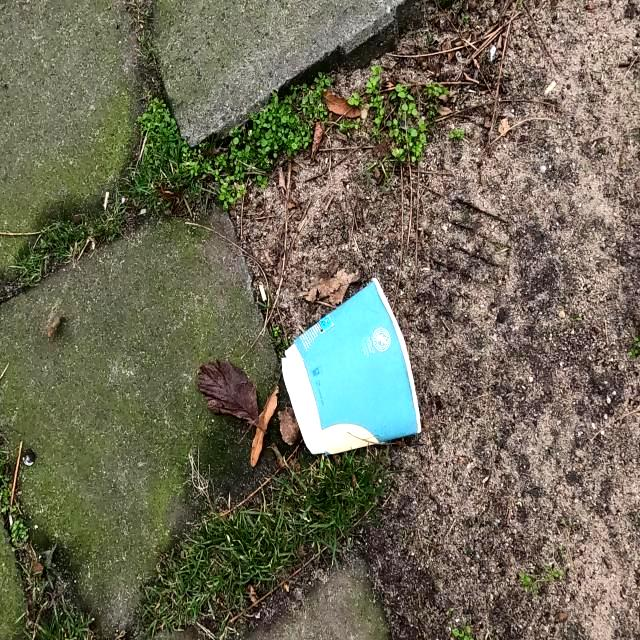Coffee Cup: (278, 272, 424, 458)
